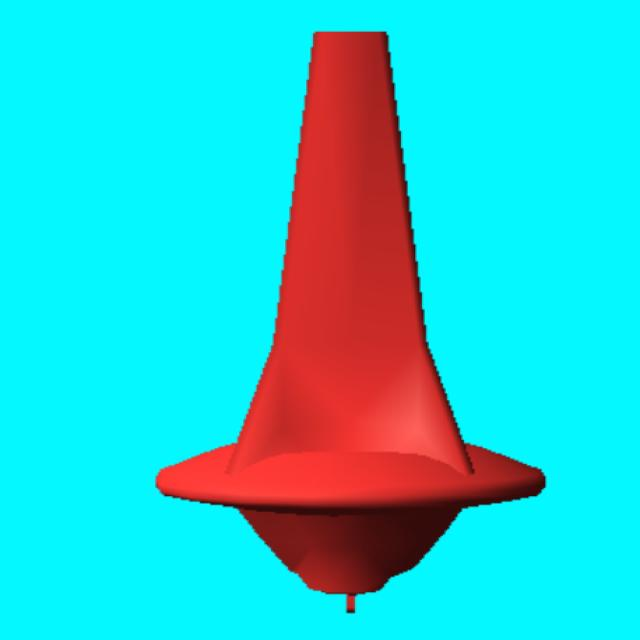RedBuoy: (156, 32, 544, 612)
